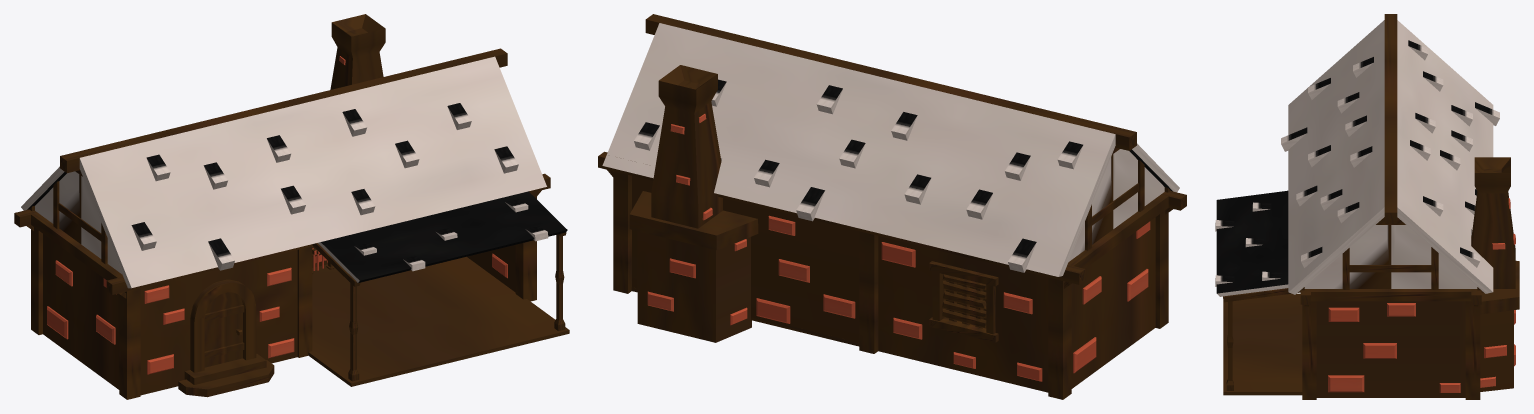
The model's file is BSLevel3.fbx.
3 views of the same model, side by side, from view 1: azimuth 30°, elevation 25°; view 2: azimuth 150°, elevation 25°; view 3: azimuth 270°, elevation 25° (orthographic). The views are drawn at different scales.
Parts seen in each view (by area): view 1: BSLevel3; view 2: BSLevel3; view 3: BSLevel3.
Part boxes in pixels (box(x1,y1,x2,y2)): BSLevel3: box(14, 14, 569, 399); BSLevel3: box(598, 14, 1186, 399); BSLevel3: box(1215, 14, 1519, 399).
Bounding box in the file's own units: 34.02 × 16.57 × 22.03.
